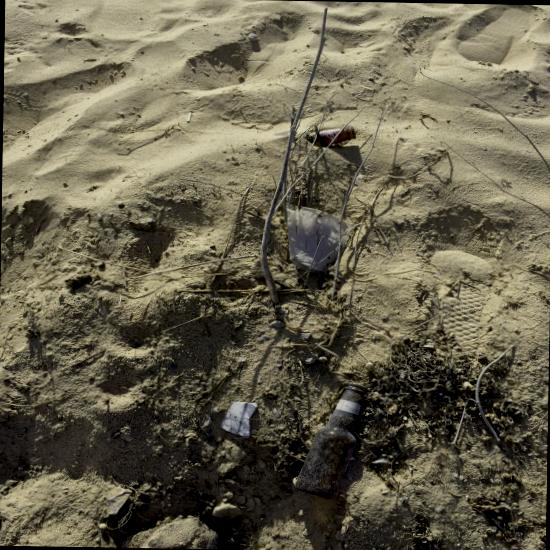Disposable plastic cup: (285, 206, 339, 273)
Glass bottle: (294, 382, 367, 499), (307, 126, 356, 146)
Unlabeled litter: (220, 401, 257, 438)
